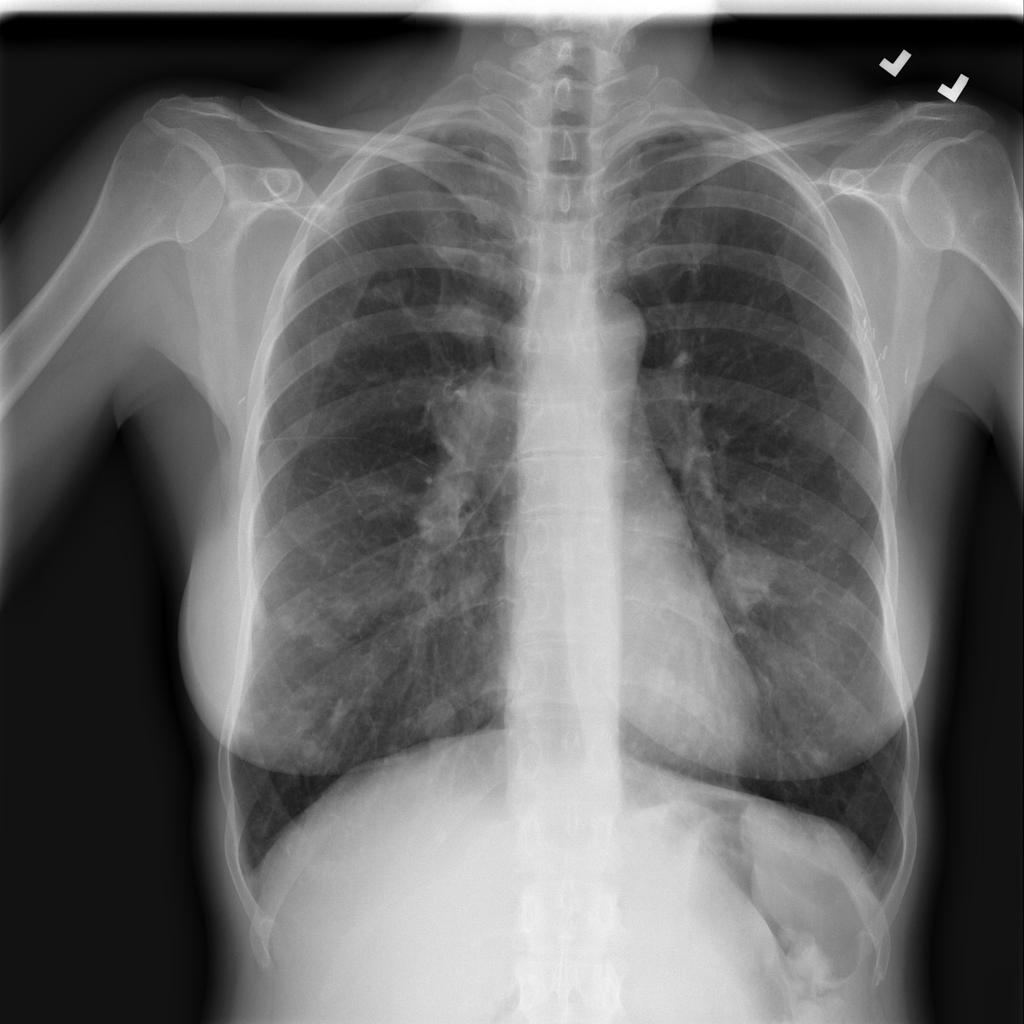nodule: (701, 517, 791, 626), (399, 683, 472, 760), (432, 281, 503, 352), (268, 613, 302, 641)
